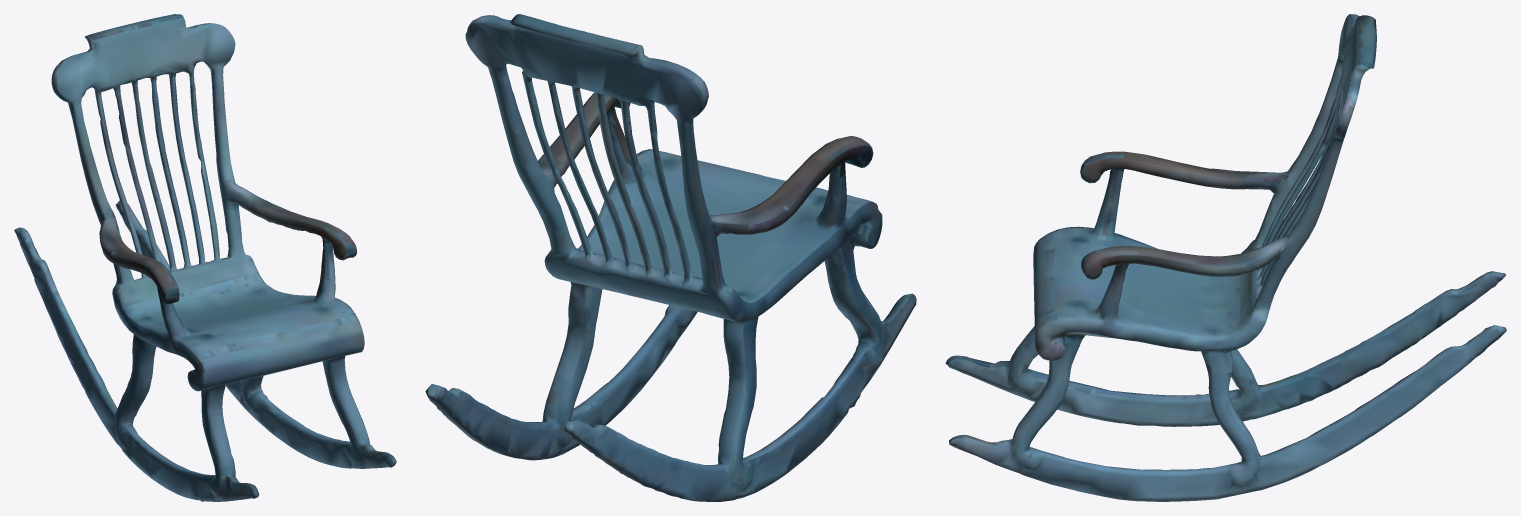
File: rocker.glb
3 renders of one model, left to right at view 1: azimuth 30°, elevation 25°; view 2: azimuth 150°, elevation 25°; view 3: azimuth 270°, elevation 25°, orthographic. The views are drawn at different scales.
Visible parts, largest first — view 1: Object_2; view 2: Object_2; view 3: Object_2.
Boxes of the visible parts, x1=… form: Object_2: x1=14, y1=14, x2=396, y2=501; Object_2: x1=425, y1=14, x2=916, y2=501; Object_2: x1=945, y1=14, x2=1506, y2=501.
Bounding box in the file's own units: 4.09 × 7.6 × 9.17.
1 material, 1 textured.
